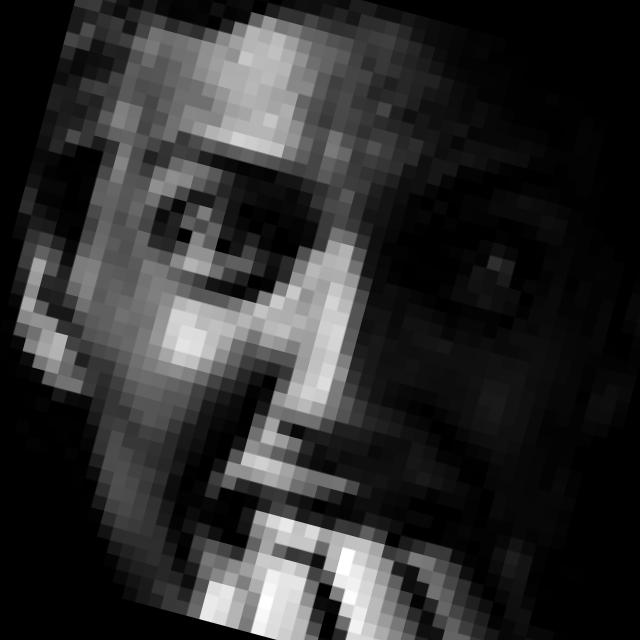fear: (45, 71, 612, 640)
